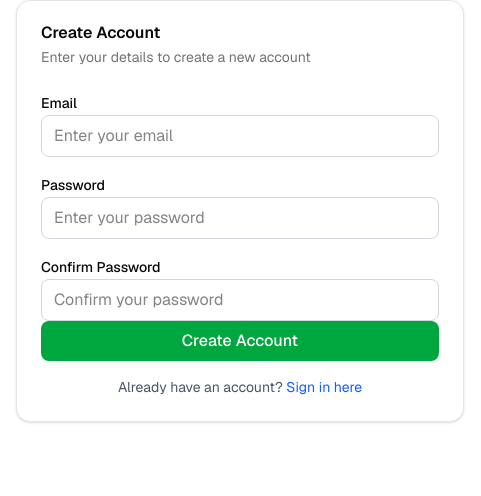
Authentication Tests › SignupForm Component › validates password confirmation match
In the field labelled "Email": (240, 136) left=41, top=115, right=439, bottom=157, type "test@example.com"
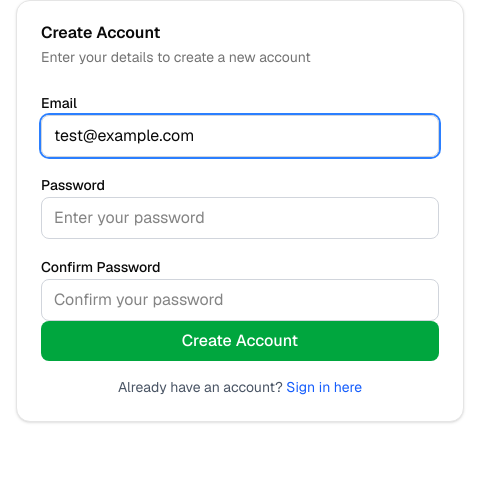
In the password field labelled "Password": (240, 218) left=41, top=197, right=439, bottom=239, type "password123"
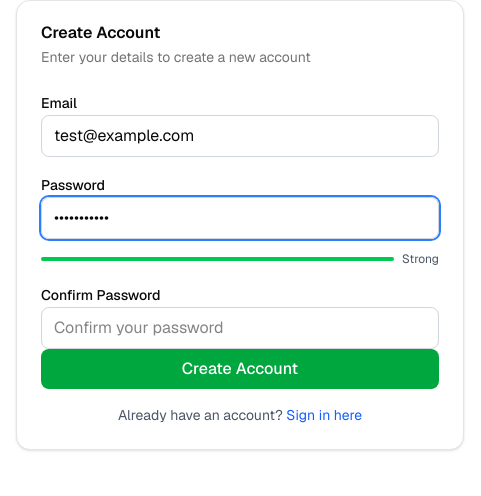
In the password field labelled "Confirm Password": (240, 328) left=41, top=307, right=439, bottom=349, type "differentpassword"
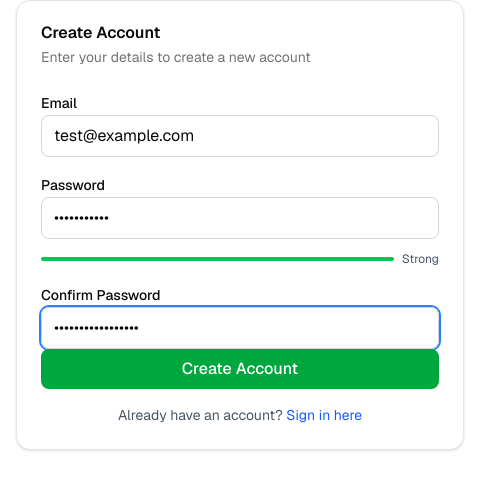
Click the button "Create Account": click(240, 369) left=41, top=349, right=439, bottom=389
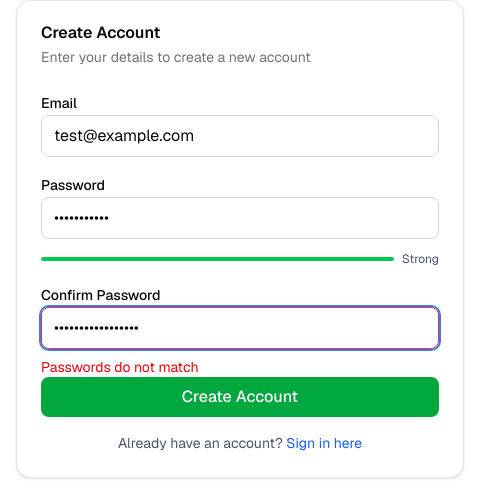
Check: the text "Passwords do not match" is shown, box left=41, top=358, right=198, bottom=376
